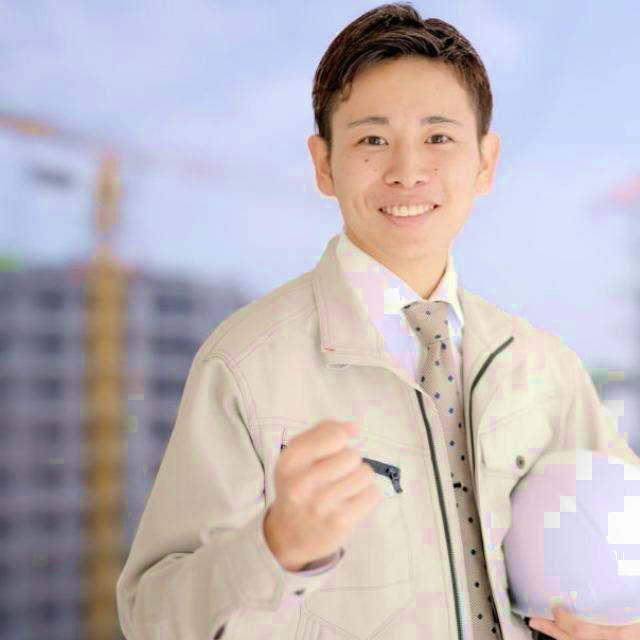Sin_Casco_Mascarrilla: (309, 4, 499, 255)
Sin_Chaleco: (223, 248, 577, 634)
